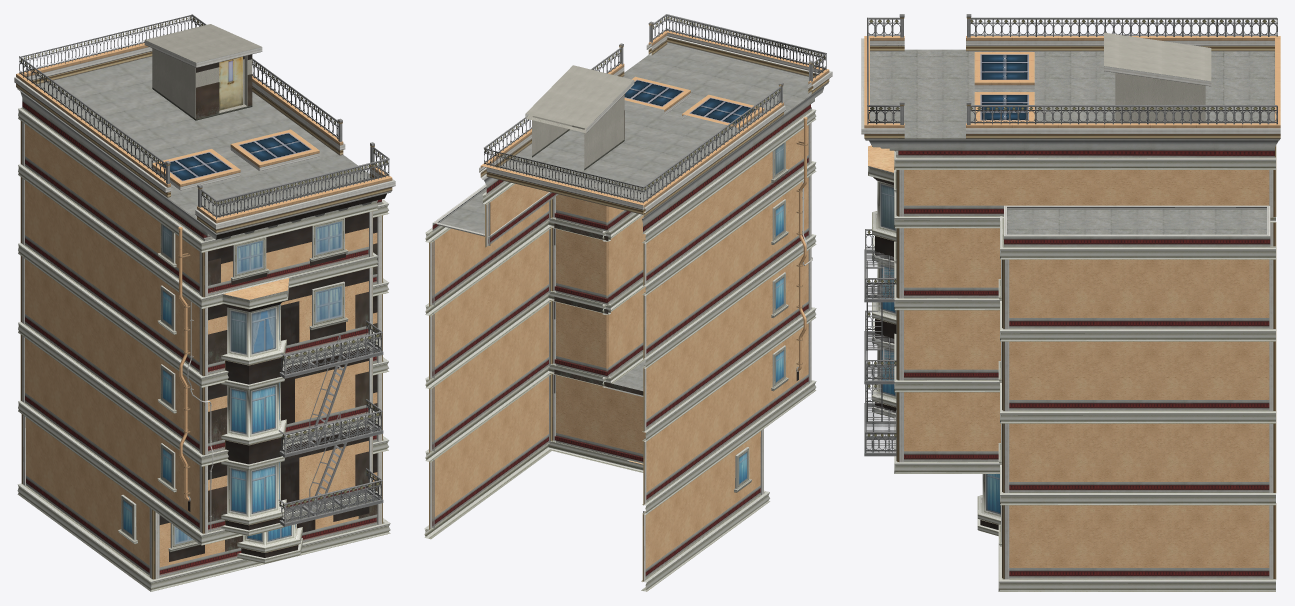
Rendered from MHouseH_high.fbx.
The picture shows the model from 3 angles, left to right: view 1: azimuth 30°, elevation 25°; view 2: azimuth 150°, elevation 25°; view 3: azimuth 270°, elevation 25°; orthographic projection. The views are drawn at different scales.
Visible parts, largest first — view 1: ct2_03_n1_ym2_MhouseH_high02; view 2: ct2_03_n1_ym2_MhouseH_high02; view 3: ct2_03_n1_ym2_MhouseH_high02.
Boxes of the visible parts, left/top/right/bottom form: ct2_03_n1_ym2_MhouseH_high02: left=14, top=14, right=395, bottom=591; ct2_03_n1_ym2_MhouseH_high02: left=424, top=14, right=832, bottom=591; ct2_03_n1_ym2_MhouseH_high02: left=861, top=14, right=1280, bottom=591.
Bounding box in the file's own units: 1434 × 2614 × 2041.
